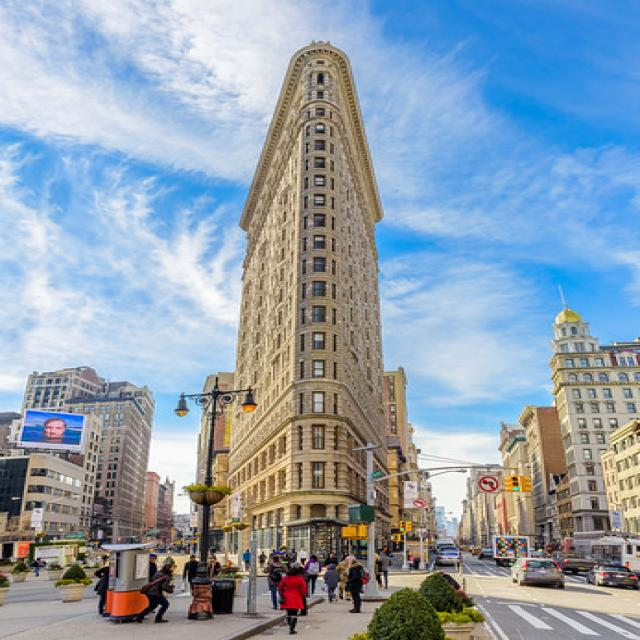Normal_building: (225, 41, 406, 590)
